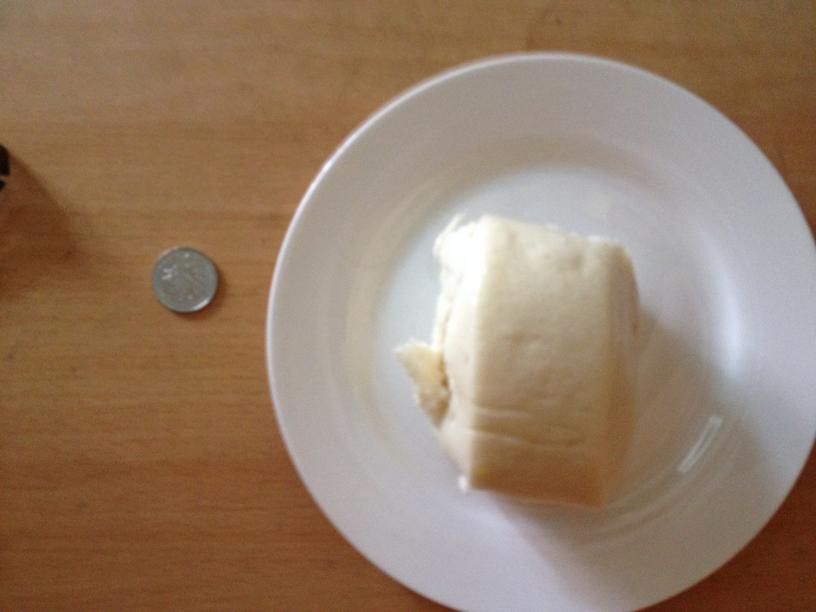bun: (414, 213, 635, 511)
coin: (148, 247, 219, 315)
